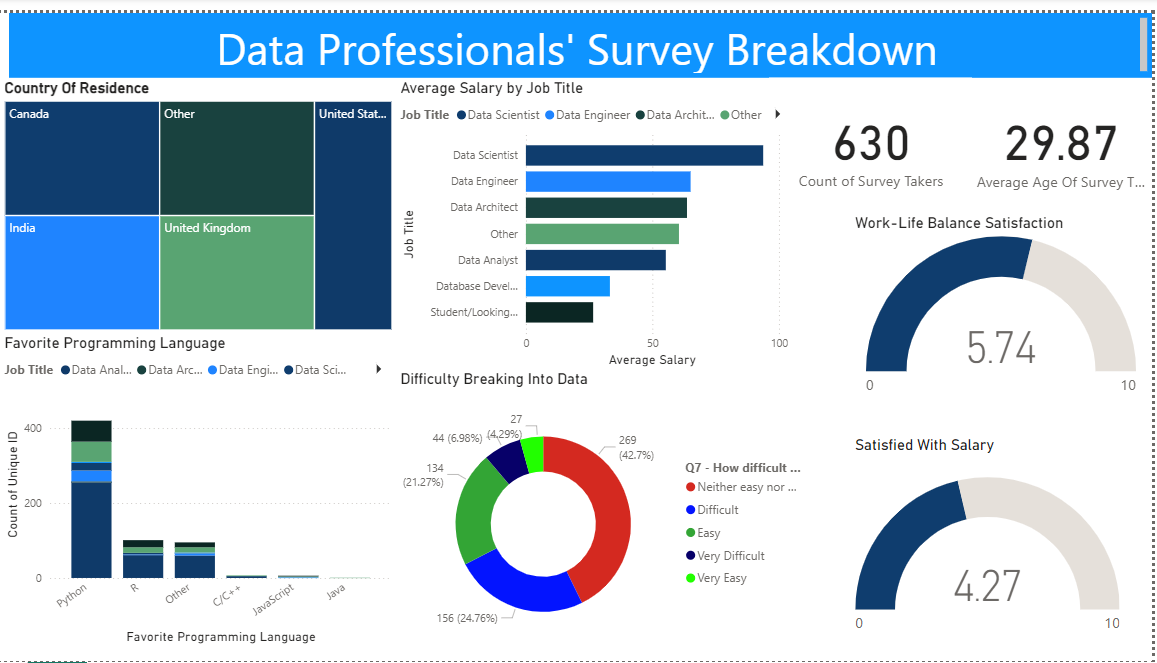

Layout of this report page (visuals, bound fields, positions):
{"tool":"powerbi","page":{"name":"Page 1","canvas":[1280,720],"ordinal":0},"visuals":[{"type":"textbox","box":[9.4,0,1269.9,71.8],"z":0},{"type":"card","fields":{"Values":["Count(Data Professional Survey.Unique ID)"]},"box":[854.2,71.8,224.9,151.2],"z":1000},{"type":"card","fields":{"Values":["Avg(Data Professional Survey.Q10 - Current Age)"]},"box":[1079.1,73.7,200.3,149.3],"z":2000},{"type":"barChart","title":"Average Salary by Job Title","fields":{"Category":["Data Professional Survey.Q1 - Which Title Best Fits your Current Role?.1"],"Y":["Avg(Data Professional Survey.Average Salary)"],"Series":["Data Professional Survey.Q1 - Which Title Best Fits your Current Role?.1"]},"box":[440.1,72.7,440.1,324.5],"z":3000},{"type":"columnChart","title":"Favorite Programming Language","fields":{"Category":["Data Professional Survey.Q5 - Favorite Programming Language.1.1"],"Y":["Count(Data Professional Survey.Unique ID)"],"Series":["Data Professional Survey.Q1 - Which Title Best Fits your Current Role?.1"]},"box":[0,356.2,440.1,348.8],"z":4000},{"type":"treemap","title":"Country Of Residence","fields":{"Group":["Data Professional Survey.Q11 - Which Country do you live in?.1"],"Values":["Count(Data Professional Survey.Q11 - Which Country do you live in?.1)"]},"box":[0,72.7,440.1,283.5],"z":5000},{"type":"gauge","title":"Work-Life Balance Satisfaction","fields":{"Y":["Avg(Data Professional Survey.Q6 - How Happy are you in your Current Position with the following? (Work/Life Balance))"],"MinValue":["Min(Data Professional Survey.Q6 - How Happy are you in your Current Position with the following? (Work/Life Balance))"],"MaxValue":["Max(Data Professional Survey.Q6 - How Happy are you in your Current Position with the following? (Work/Life Balance))1"]},"box":[945.6,223.8,333.8,210.7],"z":6000},{"type":"gauge","title":"Satisfied With Salary","fields":{"Y":["Avg(Data Professional Survey.Q6 - How Happy are you in your Current Position with the following? (Salary))"],"MinValue":["Min(Data Professional Survey.Q6 - How Happy are you in your Current Position with the following? (Salary))"],"MaxValue":["Max(Data Professional Survey.Q6 - How Happy are you in your Current Position with the following? (Salary))"]},"box":[945.6,470,304,249.9],"z":7000},{"type":"donutChart","title":"Difficulty Breaking Into Data","fields":{"Y":["CountNonNull(Data Professional Survey.Q7 - How difficult was it for you to break into Data?)"],"Category":["Data Professional Survey.Q7 - How difficult was it for you to break into Data?"]},"box":[440.1,397.2,462.5,322.6],"z":8000}]}

Visuals, with their boxes in screenshot pixels (x1, y1, x2, y2), scaled from the page's 1280x720 canvas onto the 1157x663 screenshot:
textbox: x1=8, y1=0, x2=1156, y2=66
card - Count(Data Professional Survey.Unique ID): x1=772, y1=66, x2=975, y2=205
card - Avg(Data Professional Survey.Q10 - Current Age): x1=975, y1=68, x2=1156, y2=205
"Average Salary by Job Title" barChart: x1=398, y1=67, x2=796, y2=366
"Favorite Programming Language" columnChart: x1=0, y1=328, x2=398, y2=649
"Country Of Residence" treemap: x1=0, y1=67, x2=398, y2=328
"Work-Life Balance Satisfaction" gauge: x1=855, y1=206, x2=1156, y2=400
"Satisfied With Salary" gauge: x1=855, y1=433, x2=1130, y2=662
"Difficulty Breaking Into Data" donutChart: x1=398, y1=366, x2=816, y2=662
